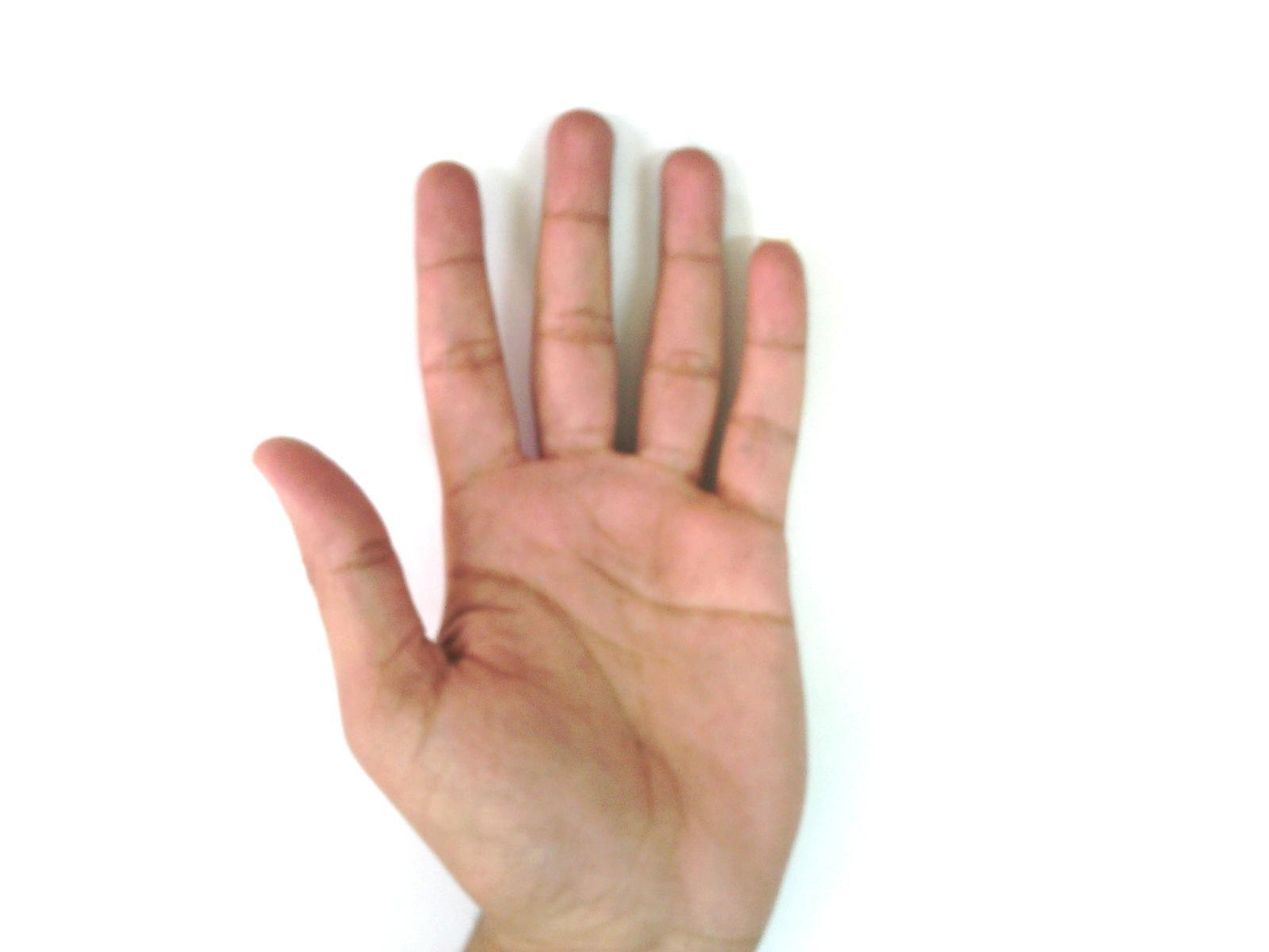open_palm: (251, 108, 817, 950)
